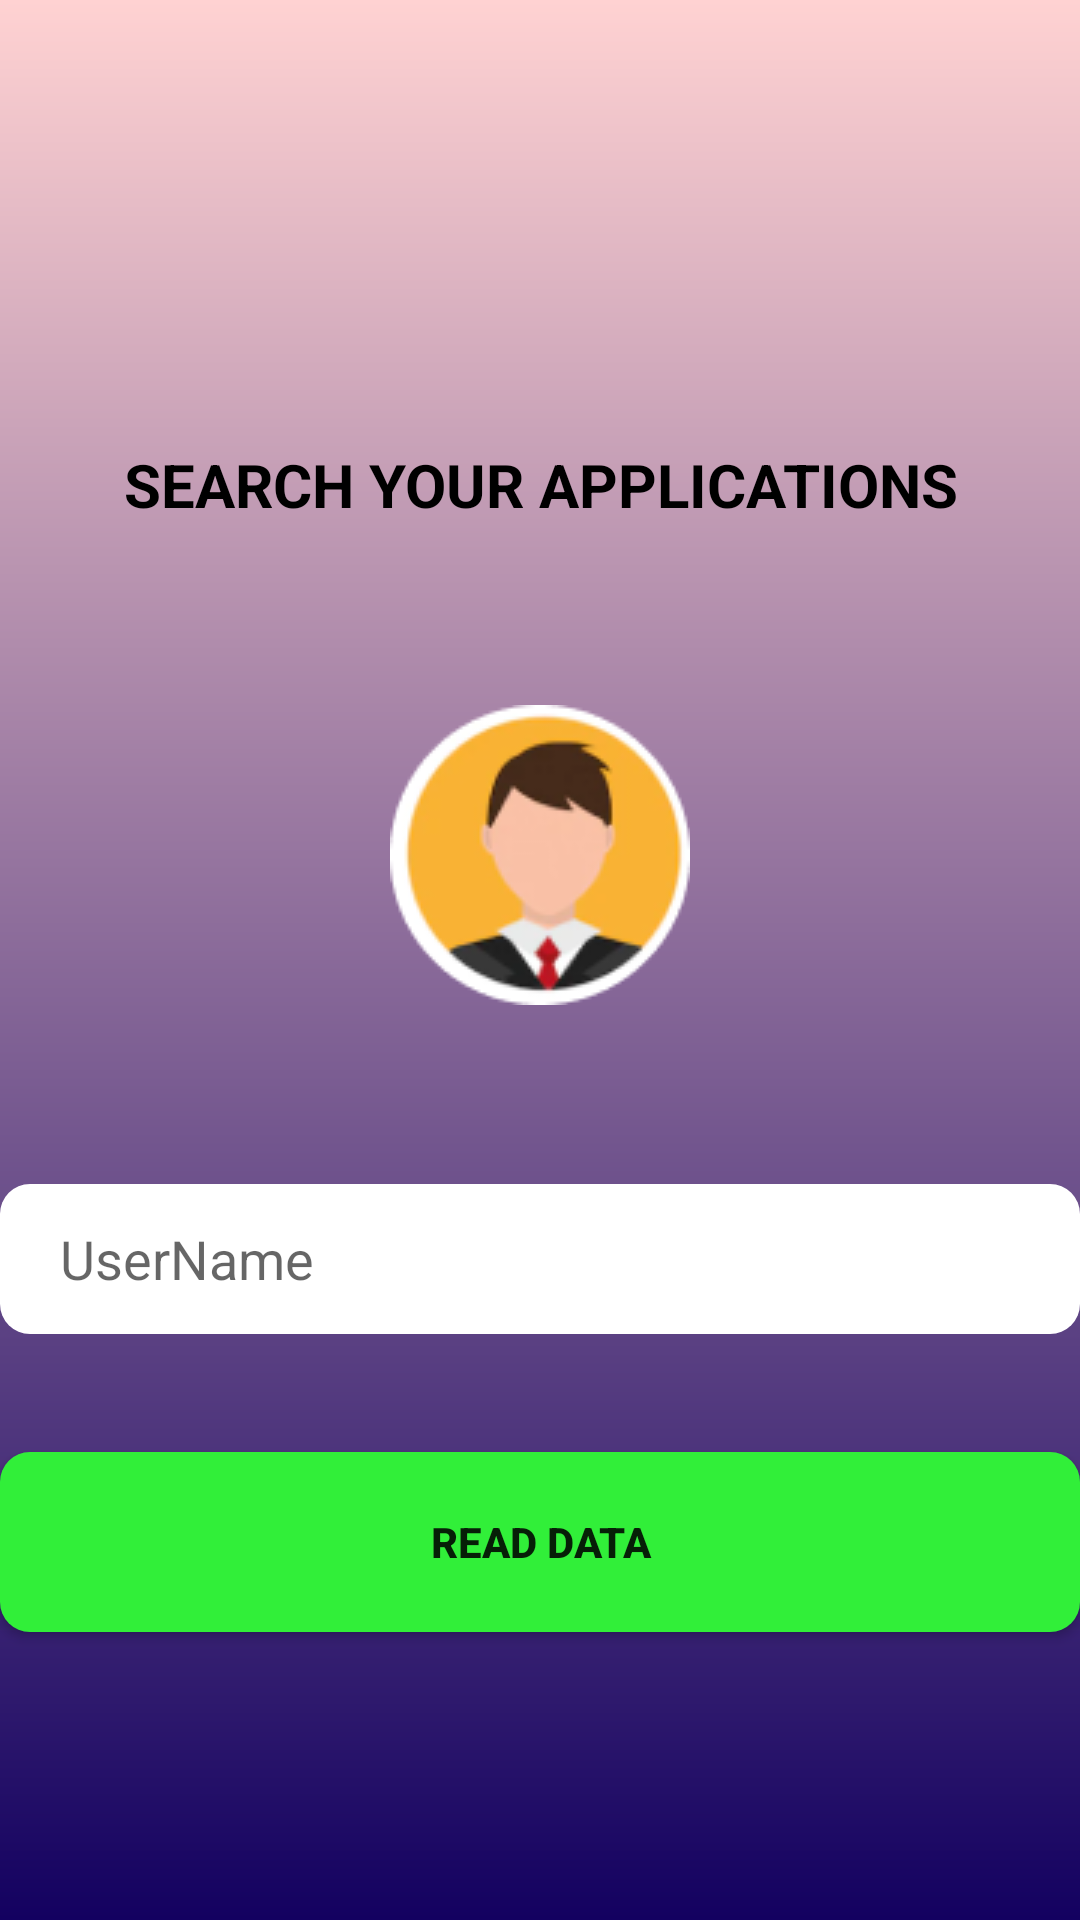

Screen size 1080*1920. Icon name, then its center in pixels as point (x, y):
user: point (540, 855)
